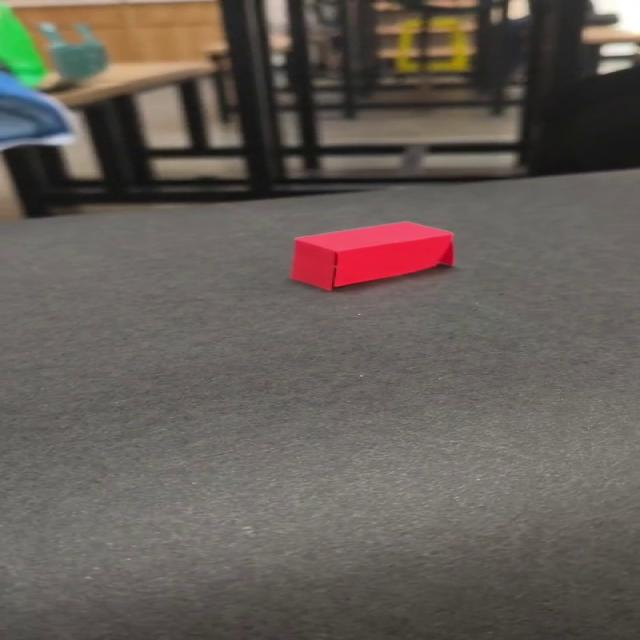red block: (288, 219, 455, 291)
